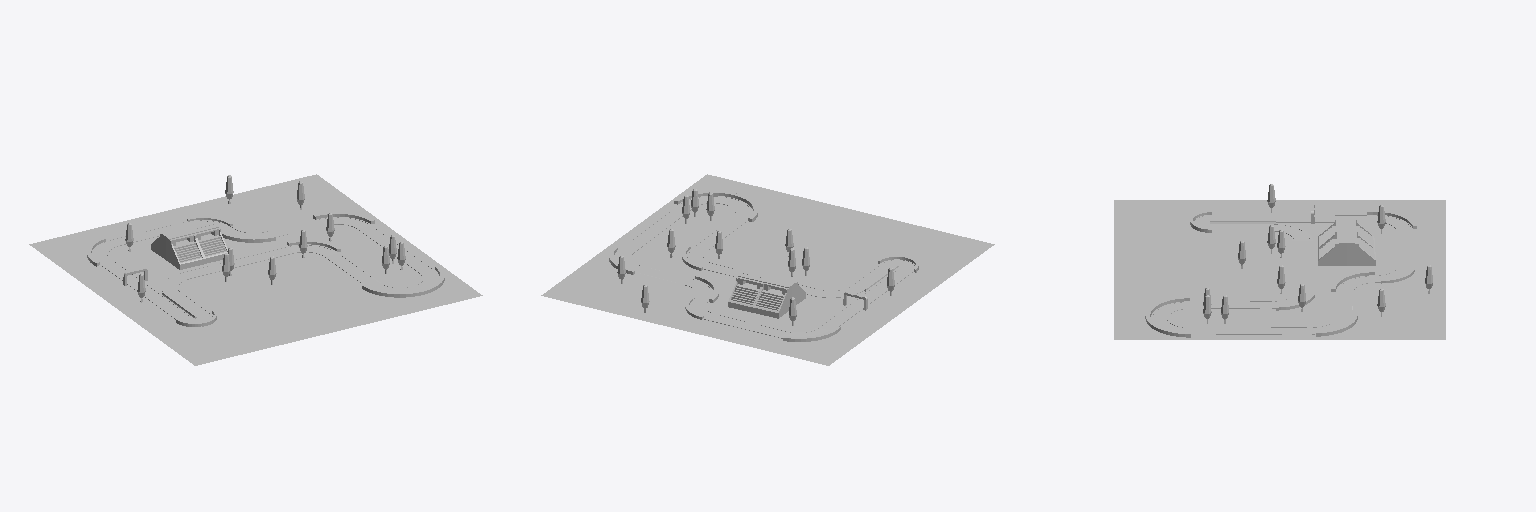
File: track4d.obj
The picture shows the model from 3 angles: view 1: azimuth 30°, elevation 25°; view 2: azimuth 150°, elevation 25°; view 3: azimuth 270°, elevation 25°; orthographic projection.
Parts seen in each view (by area): view 1: grass; view 2: grass; view 3: grass.
Boxes of the visible parts, x1,y1,x2,y2 form: grass: [29, 174, 482, 365]; grass: [541, 174, 994, 365]; grass: [1114, 184, 1445, 339].
Bounding box in the file's own units: 16.05 × 1.51 × 16.05.